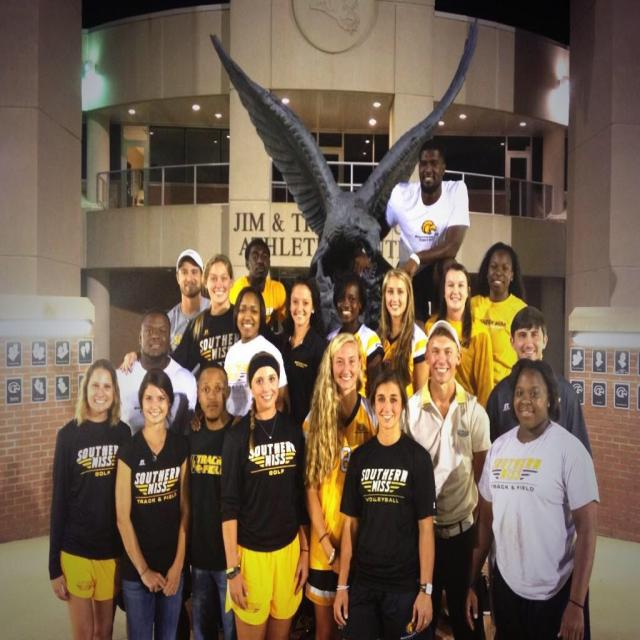body: (461, 352, 601, 639), (395, 316, 494, 640), (330, 367, 440, 639), (218, 347, 314, 639), (46, 356, 136, 639), (300, 329, 381, 640), (111, 366, 195, 639), (376, 138, 473, 330), (185, 359, 245, 640), (484, 302, 592, 451), (118, 251, 243, 377), (112, 306, 200, 439), (423, 262, 495, 416), (222, 284, 294, 424), (468, 240, 533, 390), (320, 266, 388, 403), (364, 267, 431, 401), (275, 271, 328, 421), (165, 248, 221, 384), (228, 236, 288, 333)
